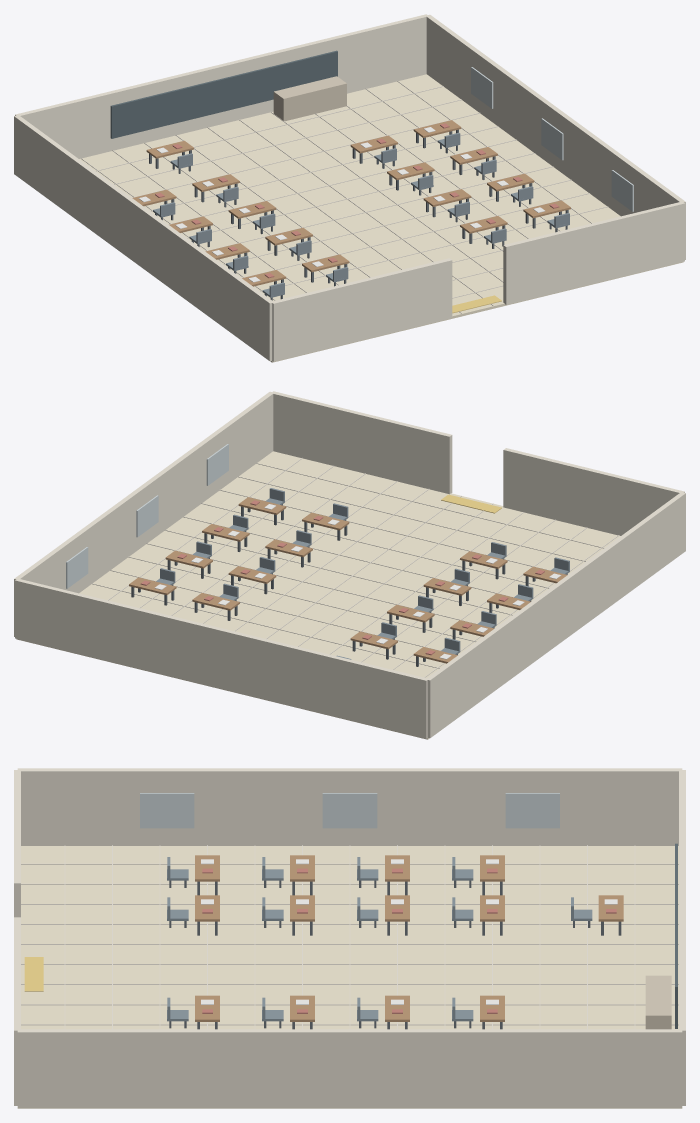
File: classroom.glb
3 views of the same model, one above another, from view 1: azimuth 30°, elevation 25°; view 2: azimuth 150°, elevation 25°; view 3: azimuth 270°, elevation 25° (orthographic). The views are drawn at different scales.
Visible parts, largest first — view 1: room_classroom__E8DDC2, room_classroom__E9D9B0, room_classroom__243036, room_classroom__E6DCC6, room_classroom__8D5A34, room_classroom__4A5A66, room_classroom__B9A78A, room_classroom__2B3238, room_classroom__B4C7CD, room_classroom__FBFBF7, room_classroom__A4473C; view 2: room_classroom__E8DDC2, room_classroom__E9D9B0, room_classroom__E6DCC6, room_classroom__8D5A34, room_classroom__4A5A66, room_classroom__B4C7CD, room_classroom__2B3238, room_classroom__FBFBF7, room_classroom__A4473C; view 3: room_classroom__E9D9B0, room_classroom__E8DDC2, room_classroom__E6DCC6, room_classroom__8D5A34, room_classroom__B4C7CD, room_classroom__4A5A66, room_classroom__2B3238, room_classroom__B9A78A, room_classroom__FBFBF7, room_classroom__A4473C, room_classroom__E7B54A, room_classroom__243036.
Part boxes in pixels (x1,y1,x2,y2): room_classroom__E8DDC2: (14, 14, 685, 361); room_classroom__E9D9B0: (79, 74, 683, 362); room_classroom__243036: (110, 50, 337, 138); room_classroom__E6DCC6: (80, 81, 608, 313); room_classroom__8D5A34: (132, 120, 570, 286); room_classroom__4A5A66: (153, 132, 569, 297); room_classroom__B9A78A: (273, 76, 346, 121); room_classroom__2B3238: (149, 129, 568, 300); room_classroom__B4C7CD: (471, 67, 633, 211); room_classroom__FBFBF7: (138, 127, 544, 282); room_classroom__A4473C: (155, 123, 559, 278); room_classroom__E8DDC2: (14, 391, 685, 738); room_classroom__E9D9B0: (16, 451, 620, 739); room_classroom__E6DCC6: (91, 458, 619, 677); room_classroom__8D5A34: (129, 497, 567, 663); room_classroom__4A5A66: (156, 488, 569, 659); room_classroom__B4C7CD: (66, 444, 228, 588); room_classroom__2B3238: (131, 504, 567, 666); room_classroom__FBFBF7: (155, 504, 561, 659); room_classroom__A4473C: (140, 500, 544, 655); room_classroom__E9D9B0: (17, 846, 682, 1108); room_classroom__E8DDC2: (14, 768, 685, 1107); room_classroom__E6DCC6: (21, 845, 678, 1029); room_classroom__8D5A34: (195, 855, 623, 1021); room_classroom__B4C7CD: (140, 793, 559, 828); room_classroom__4A5A66: (167, 857, 592, 1021); room_classroom__2B3238: (169, 880, 621, 1029); room_classroom__B9A78A: (645, 975, 671, 1029); room_classroom__FBFBF7: (201, 859, 617, 1004); room_classroom__A4473C: (202, 868, 616, 1013); room_classroom__E7B54A: (24, 957, 43, 991); room_classroom__243036: (675, 843, 677, 1028).
Bounding box in the file's own units: 26.3 × 3.62 × 28.3.
